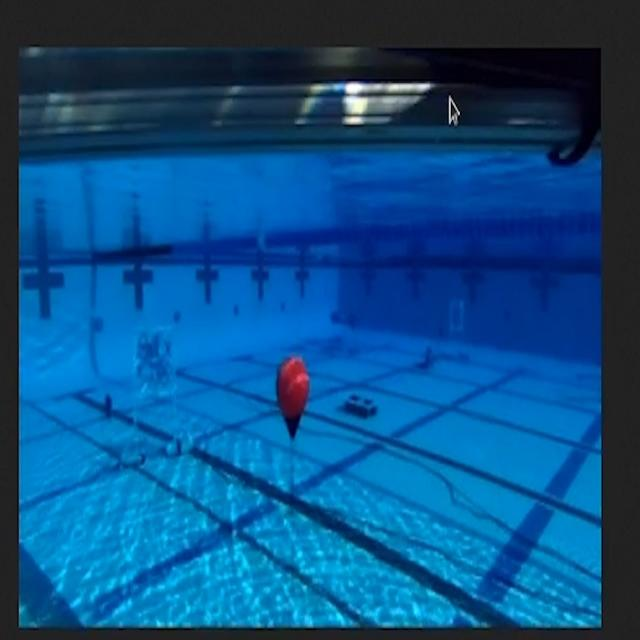Buoy: (273, 347, 315, 456)
